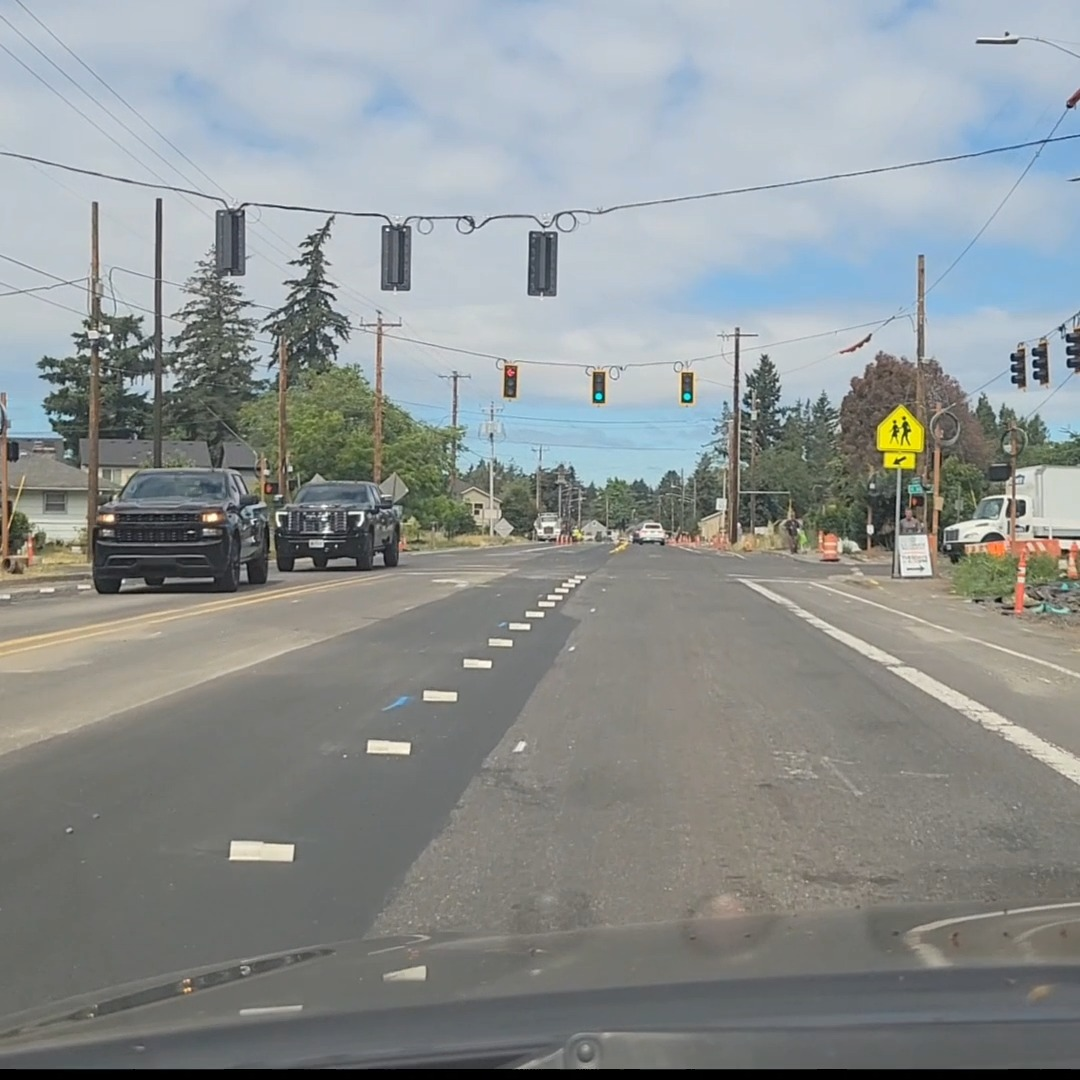car: (89, 467, 269, 593), (269, 480, 402, 573), (631, 521, 667, 545)
crosswalk-sign: (876, 403, 924, 452)
delineator: (1013, 553, 1027, 614), (1071, 540, 1080, 578), (25, 535, 34, 566)
